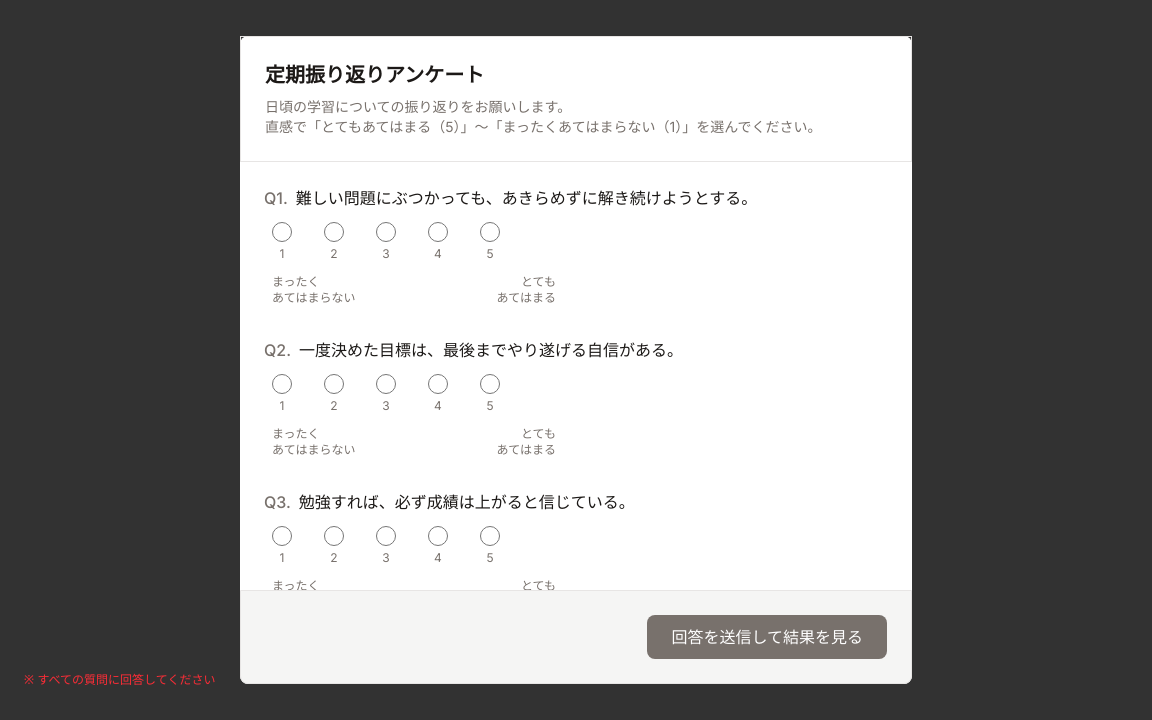
SurveyModal › 送信ボタン › すべての質問に回答すると送信ボタンが有効になる
This screenshot has width=1152, height=720.
expect the text "難しい問題にぶつかっても、あきらめずに解き続けようとする。" is shown: met, box [296,188,757,208]
# すべての質問に回答
Click the radio button labelled "1" below "難しい問題にぶつかっても、あきらめずに解き続けようとする。" at (282, 232), box [272,222,292,242]
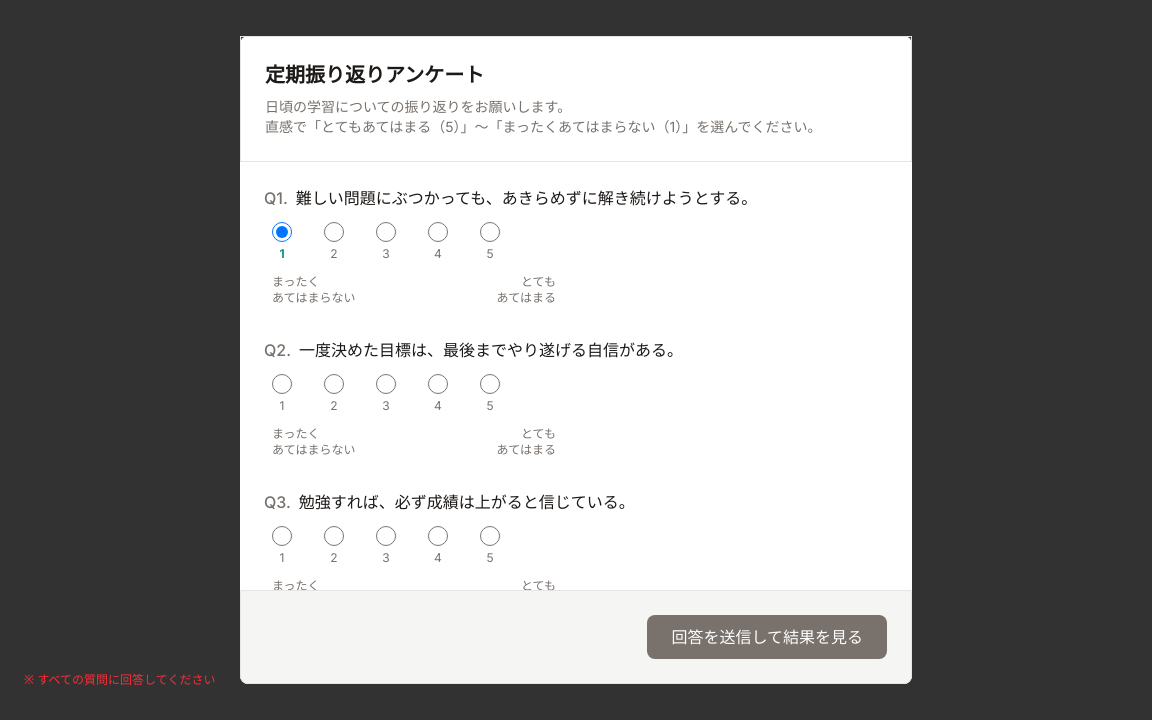
Click the radio button labelled "1" below "一度決めた目標は、最後までやり遂げる自信がある。" at (282, 384), box [272,374,292,394]
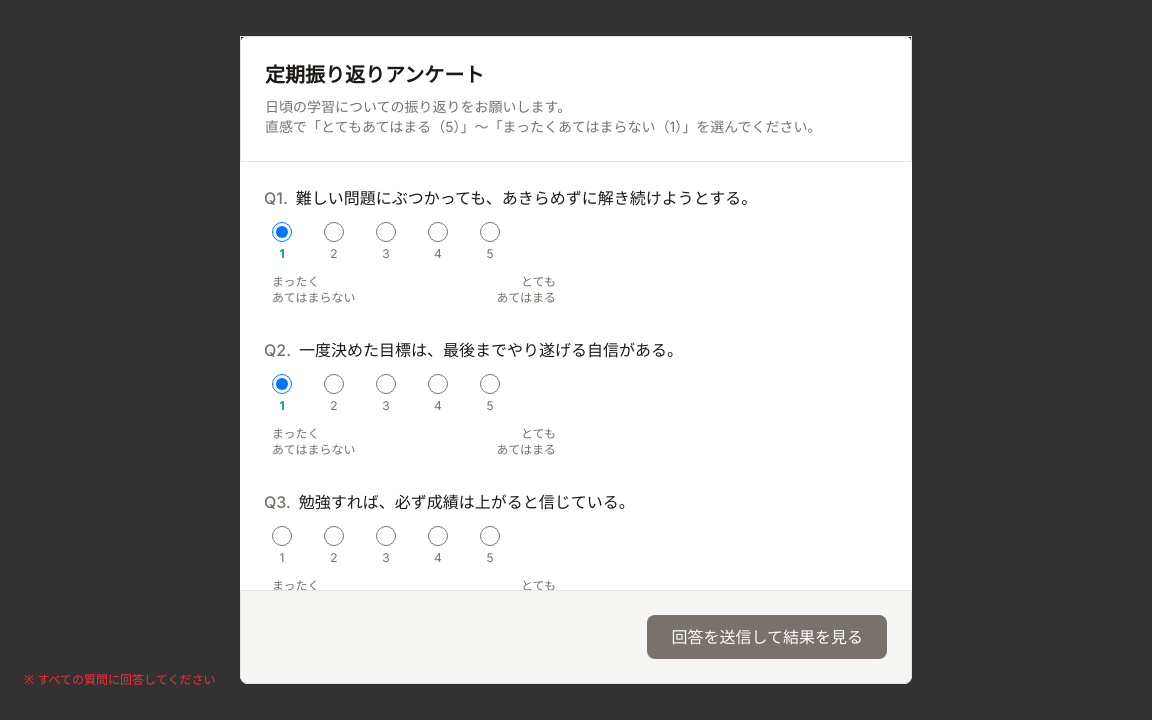
Click the radio button labelled "1" below "勉強すれば、必ず成績は上がると信じている。" at (282, 536), box [272,526,292,546]
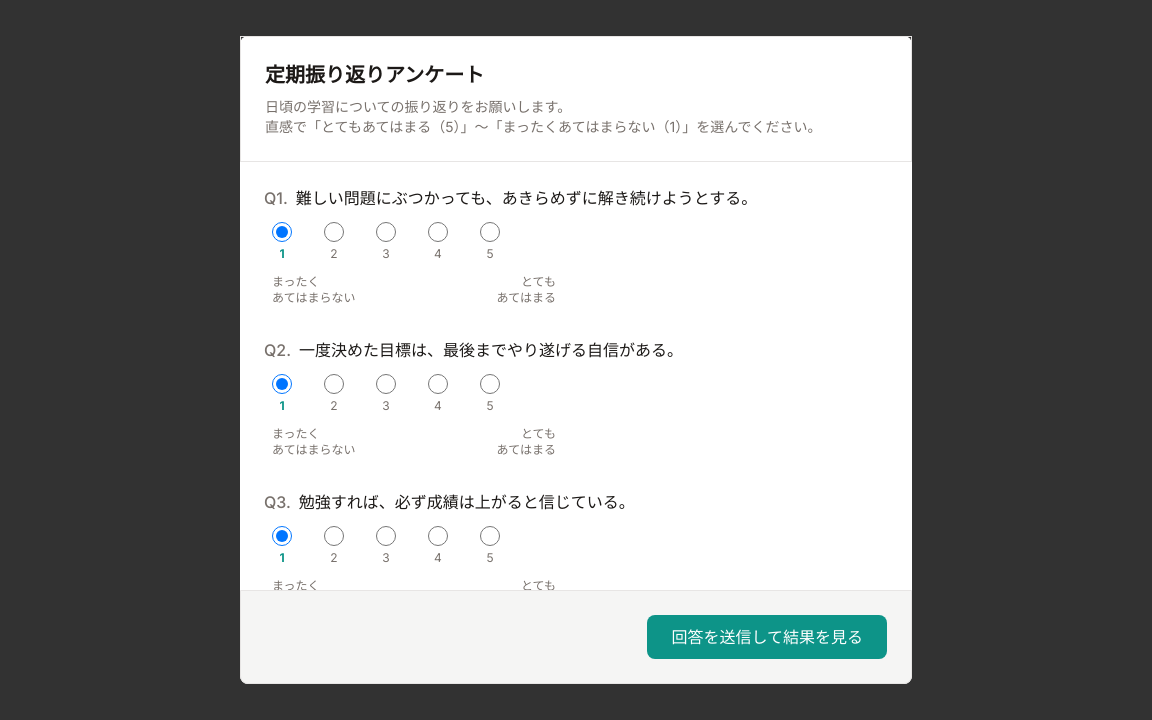
expect the button "回答を送信して結果を見る" is enabled: met, box [648,615,887,659]
